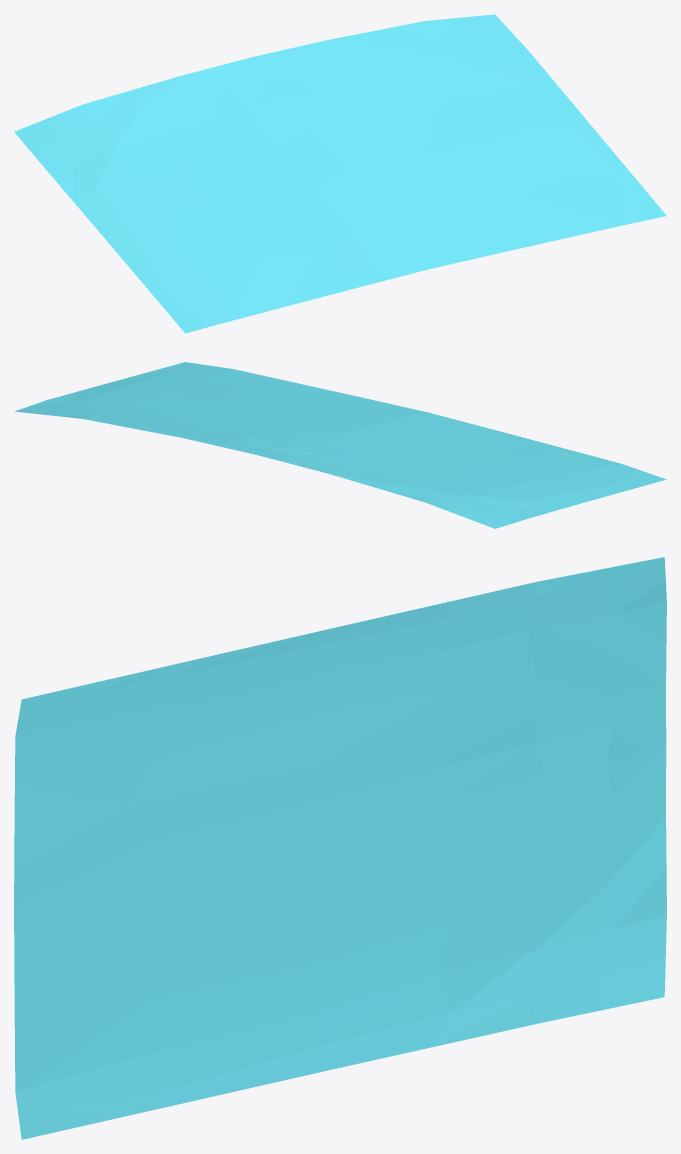
The model's file is Muscle_1_Glass_R_Tesselated.fbx.
3 views of the same model, one above another, from view 1: azimuth 30°, elevation 25°; view 2: azimuth 150°, elevation 25°; view 3: azimuth 270°, elevation 25° (orthographic). The views are drawn at different scales.
Visible parts, largest first — view 1: Muscle_1_Glass_R_Tesselated; view 2: Muscle_1_Glass_R_Tesselated; view 3: Muscle_1_Glass_R_Tesselated.
Boxes of the visible parts, left/top/right/bottom form: Muscle_1_Glass_R_Tesselated: left=14, top=14, right=666, bottom=333; Muscle_1_Glass_R_Tesselated: left=14, top=362, right=666, bottom=528; Muscle_1_Glass_R_Tesselated: left=14, top=557, right=666, bottom=1139.
Size of the model in its own units: 100 by 18.31 by 62.69.
